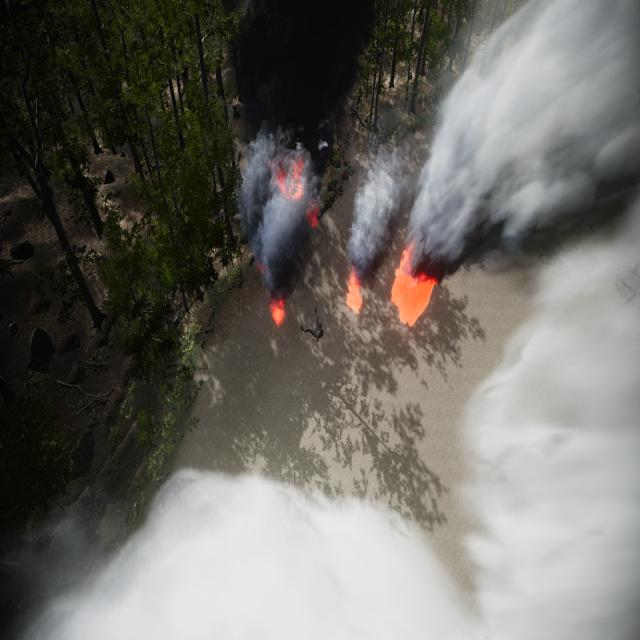Human: (296, 299, 328, 354)
